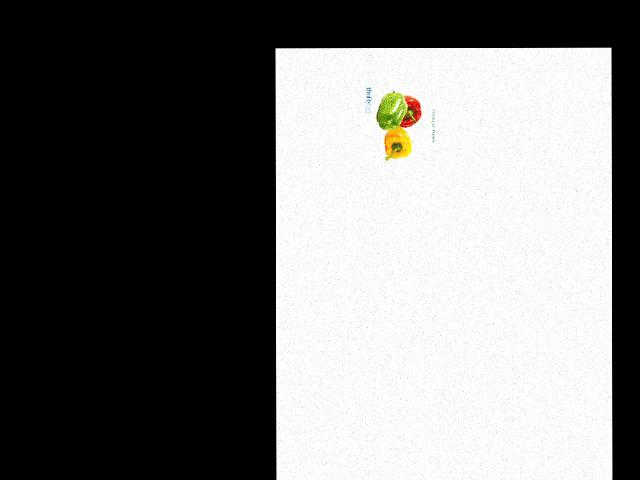bell_pepper: (373, 90, 406, 133)
